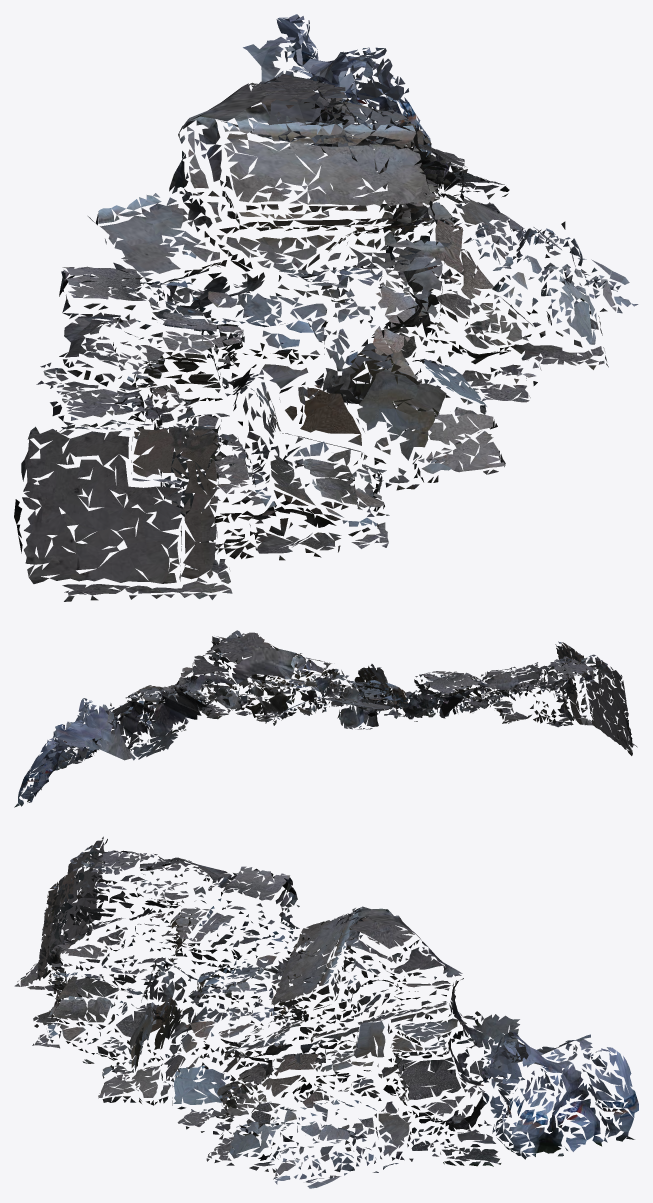
File: rubble_pile.glb
3 views of the same model, one above another, from view 1: azimuth 30°, elevation 25°; view 2: azimuth 150°, elevation 25°; view 3: azimuth 270°, elevation 25° (orthographic). The views are drawn at different scales.
Visible parts, largest first — view 1: rubble_pile; view 2: rubble_pile; view 3: rubble_pile.
Boxes of the visible parts, x1,y1,x2,y2 form: rubble_pile: (14, 14, 638, 601); rubble_pile: (14, 630, 637, 807); rubble_pile: (14, 836, 638, 1188).
Size of the model in its own units: 3.31 by 1.06 by 3.39.
Materials: 5 (5 with a texture image).
